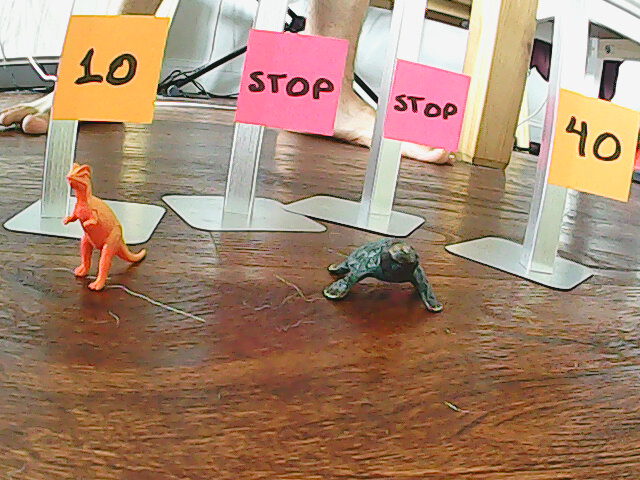10: (61, 22, 153, 111)
40: (560, 104, 631, 193)
dinosaur: (58, 158, 151, 294)
stop: (243, 41, 338, 109), (388, 78, 461, 139)
turtle: (317, 235, 448, 317)
